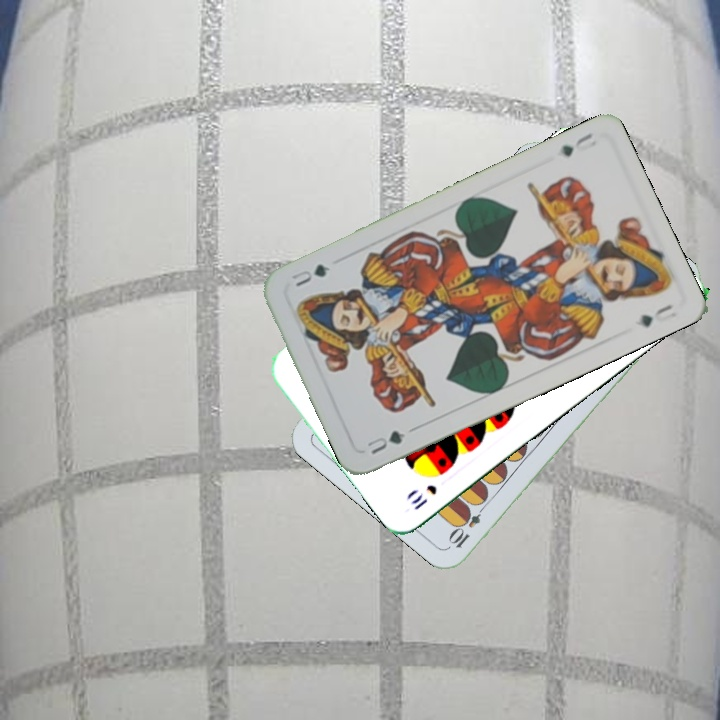E10: (446, 498, 490, 551)
GU: (363, 426, 408, 457), (555, 128, 598, 160)
S10: (407, 480, 440, 513)
